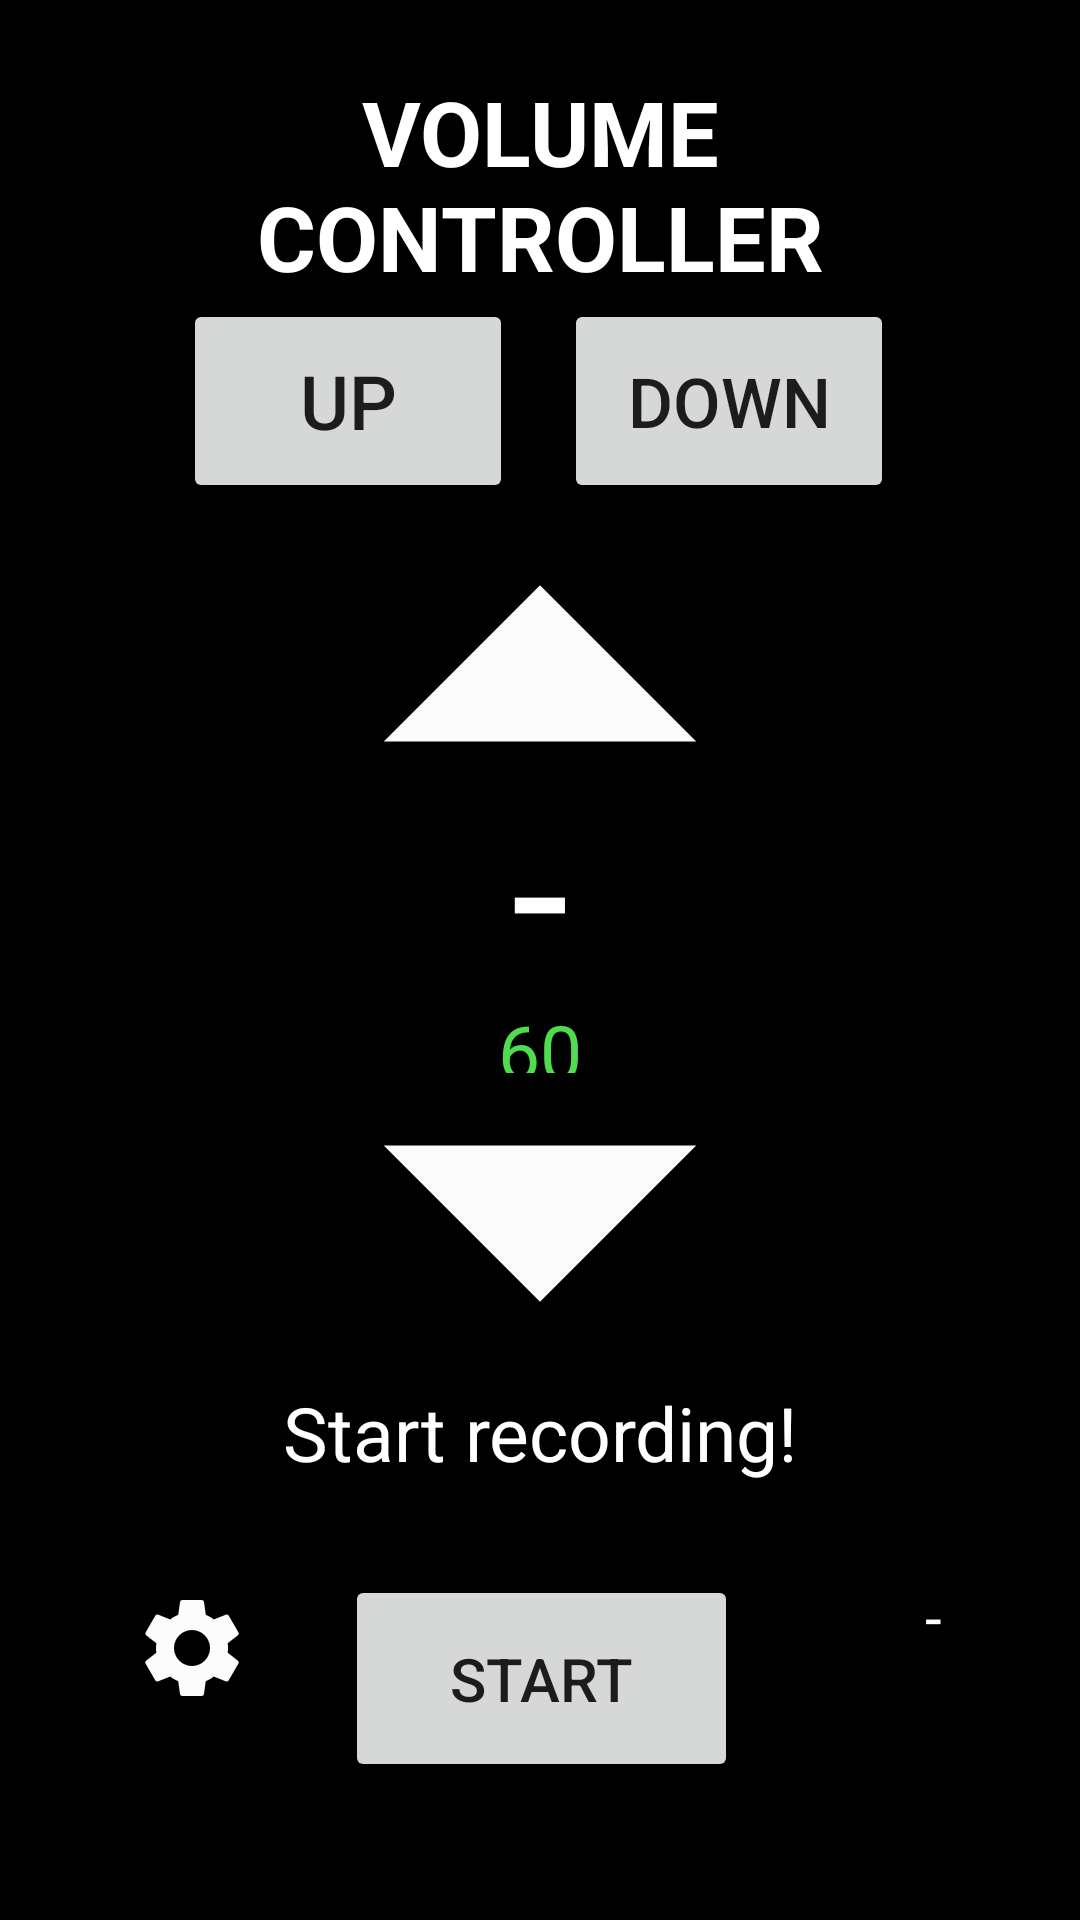

Screen size 1080px x 1920px. Icon name, then its center in pixels as (x=x, y=y):
Button to open the bottom sheet settings fragment: (x=192, y=1648)
Increase the optimal volume by one: (x=540, y=663)
